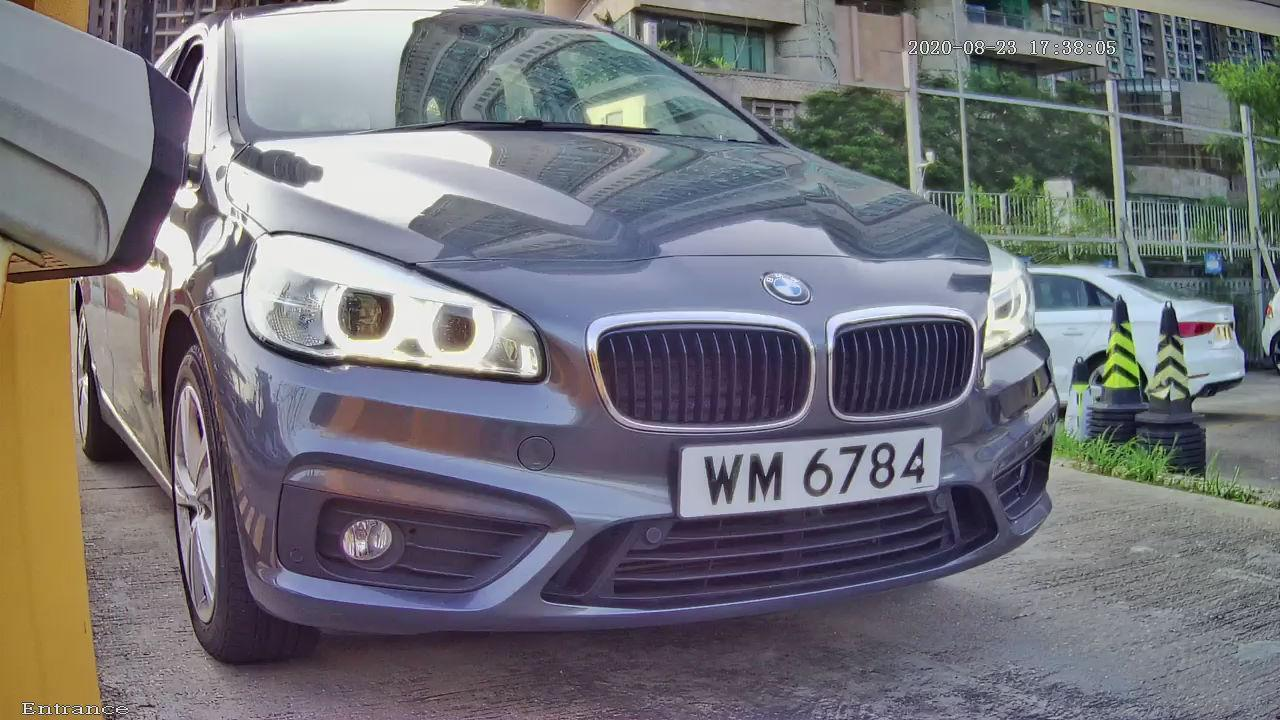Car: (63, 10, 1138, 682)
License Plate: (636, 396, 993, 560)
